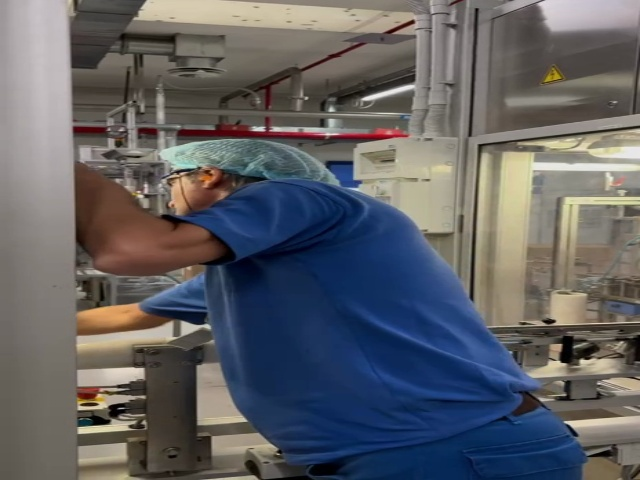Earplug: (192, 166, 221, 192)
Hairnet: (161, 136, 344, 195)
No_Helmet: (159, 135, 342, 183)
No_Vest: (198, 184, 525, 445)
Person: (164, 136, 550, 480)
Safety_Goggles: (155, 166, 202, 189)
